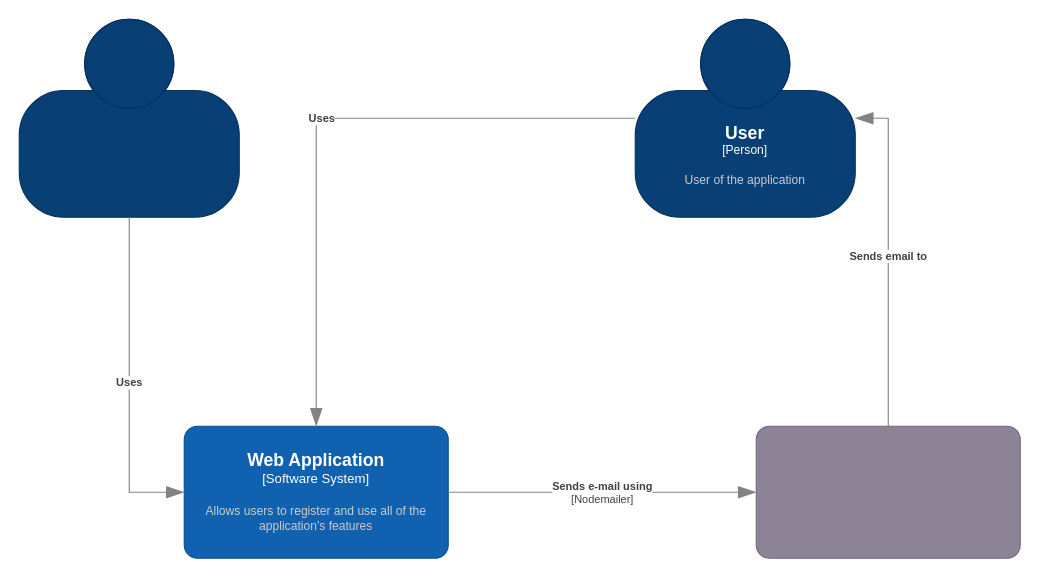
Some shapes in this 1040 by 578 pixel diagram are drawn without their labels. The shapes that lost their labels are listed below. From the top down, each one's centre as x and y in pixels, then its label:
At point 128,117: "Admin [Person] Administers the users".
At point 887,491: "Email System [Software System] Google mail system".
